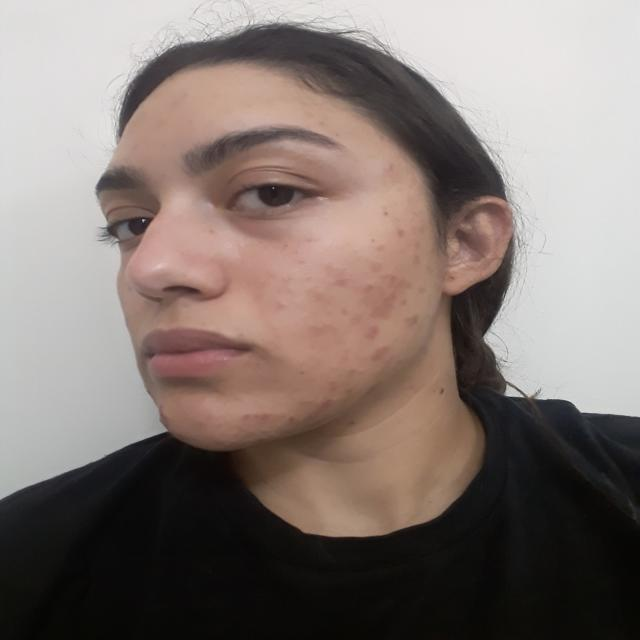Acne: (365, 294, 409, 316), (379, 275, 412, 292), (351, 282, 378, 302), (235, 410, 275, 423), (412, 282, 438, 297), (306, 321, 330, 336), (321, 260, 343, 276), (324, 378, 342, 397), (318, 395, 338, 412), (404, 316, 426, 331), (364, 256, 384, 272), (404, 254, 426, 267), (345, 364, 367, 376), (382, 158, 398, 174), (394, 225, 412, 239), (370, 242, 391, 254), (271, 294, 289, 308), (371, 346, 388, 360), (364, 324, 381, 338), (306, 290, 323, 304), (279, 272, 297, 285), (213, 438, 235, 448), (296, 396, 316, 407), (405, 239, 429, 248), (291, 256, 310, 267), (286, 413, 303, 424), (347, 383, 359, 396), (332, 278, 348, 287), (340, 308, 350, 318)
